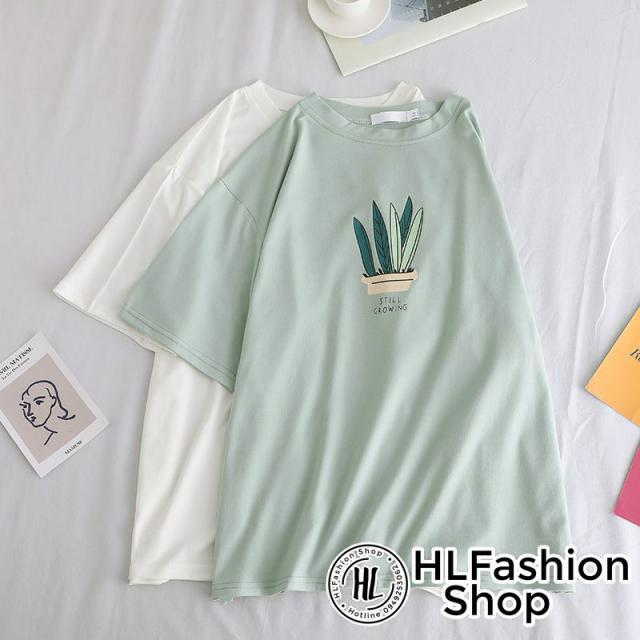Shirt: (119, 75, 584, 595), (45, 80, 482, 596)
